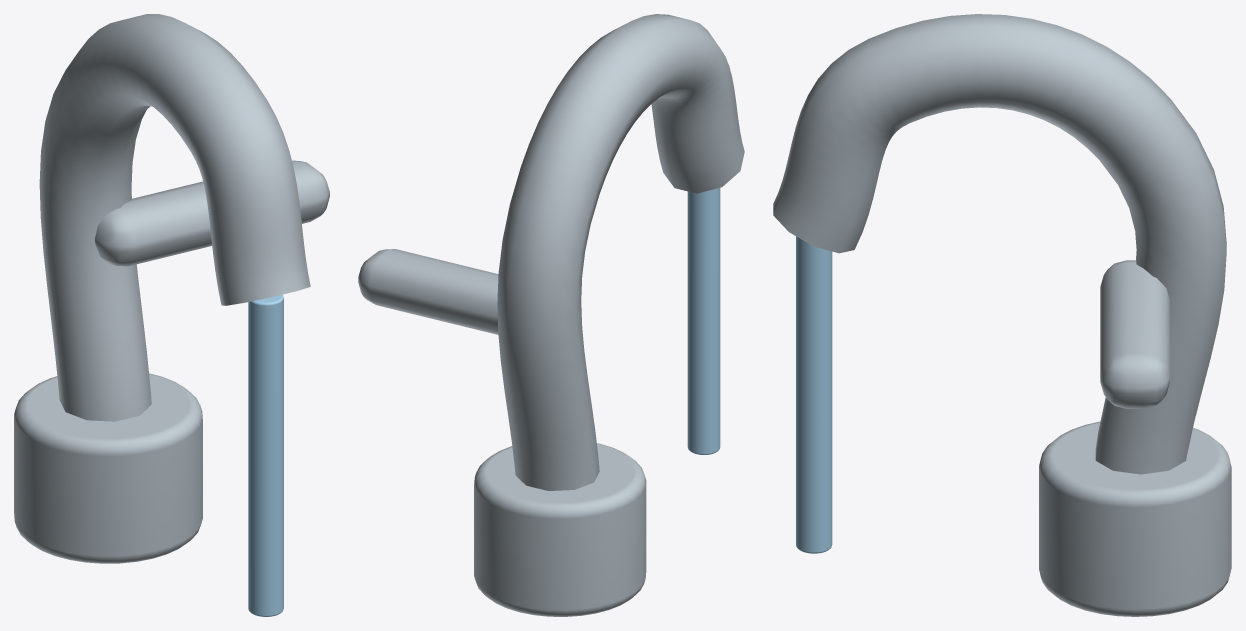
File: bathroomTapWall.glb
3 renders of one model, left to right at view 1: azimuth 30°, elevation 25°; view 2: azimuth 150°, elevation 25°; view 3: azimuth 270°, elevation 25°, orthographic. The views are drawn at different scales.
Visible parts, largest first — view 1: Curved tap, Tap base, Interaction water, Tap lever; view 2: Curved tap, Tap base, Interaction water, Tap lever; view 3: Curved tap, Tap base, Interaction water, Tap lever.
Boxes of the visible parts, left/top/right/bottom form: Curved tap: left=39, top=14, right=310, bottom=421; Tap base: left=14, top=373, right=202, bottom=563; Interaction water: left=248, top=294, right=283, bottom=616; Tap lever: left=95, top=160, right=329, bottom=266; Curved tap: left=497, top=14, right=744, bottom=490; Tap base: left=474, top=443, right=646, bottom=616; Interaction water: left=687, top=188, right=720, bottom=454; Tap lever: left=358, top=249, right=498, bottom=334; Curved tap: left=773, top=14, right=1226, bottom=474; Tap base: left=1039, top=421, right=1231, bottom=616; Interaction water: left=796, top=236, right=832, bottom=553; Tap lever: left=1100, top=260, right=1169, bottom=408.
Bounding box in the file's own units: 0.325 × 0.5779 × 0.4279.
